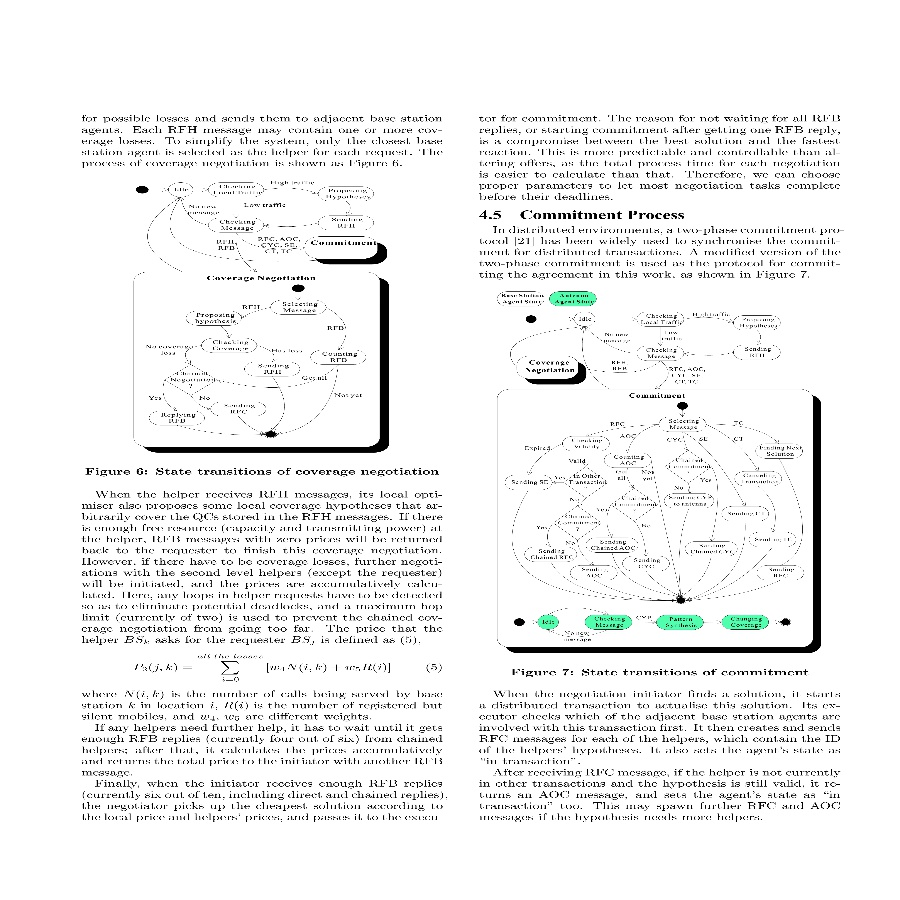eq: (133, 648, 402, 686)
